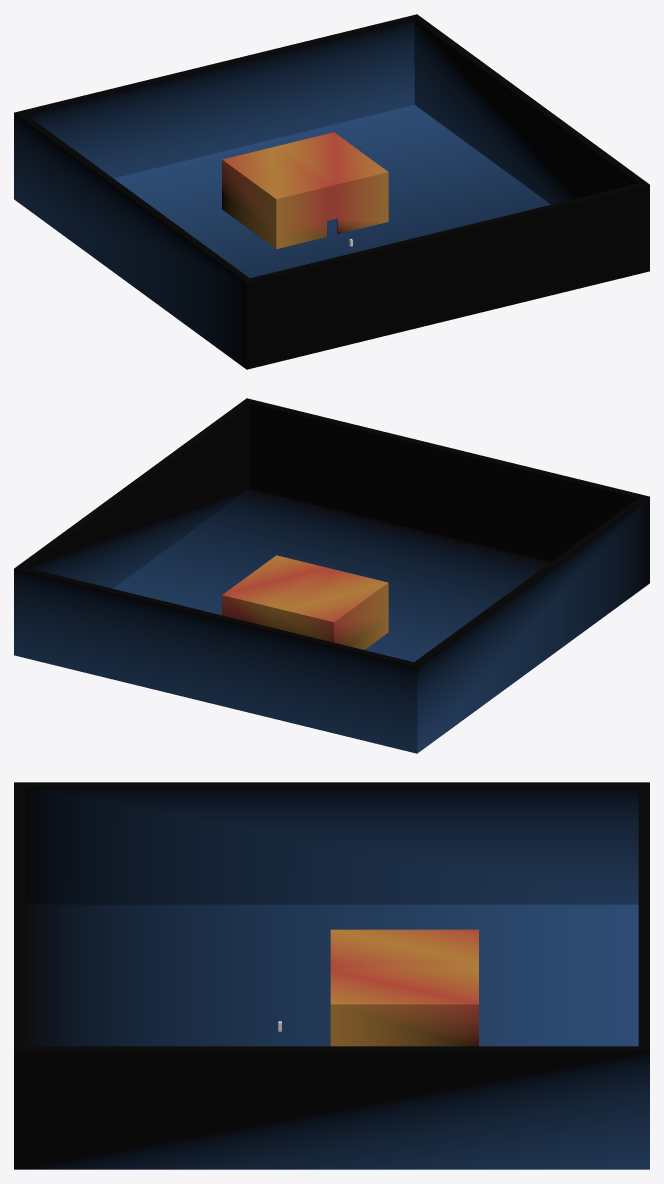
Rendered from prototype_map.gltf.
3 views of the same model, one above another, from view 1: azimuth 30°, elevation 25°; view 2: azimuth 150°, elevation 25°; view 3: azimuth 270°, elevation 25° (orthographic). The views are drawn at different scales.
Visible parts, largest first — view 1: FloorAndWalls-col, Room-col; view 2: FloorAndWalls-col, Room-col; view 3: FloorAndWalls-col, Room-col.
Boxes of the visible parts, left/top/right/bottom form: FloorAndWalls-col: left=14, top=14, right=649, bottom=369; Room-col: left=222, top=132, right=388, bottom=248; FloorAndWalls-col: left=14, top=398, right=649, bottom=753; Room-col: left=222, top=555, right=388, bottom=649; FloorAndWalls-col: left=14, top=782, right=649, bottom=1169; Room-col: left=330, top=929, right=478, bottom=1046.
Size of what is drawn, in the model's own units: 172 by 35.29 by 172.
